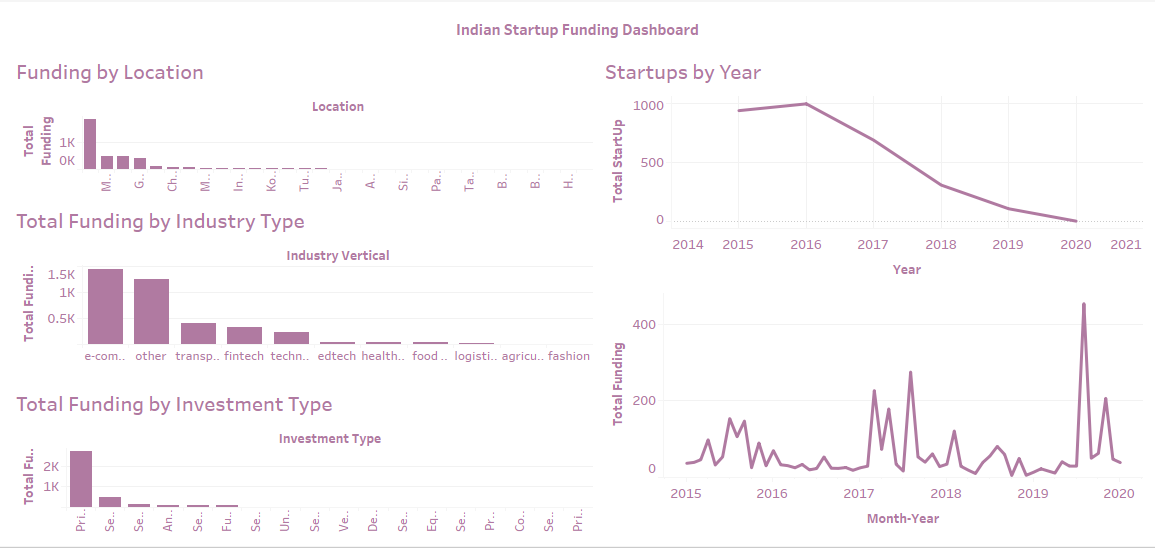

This screenshot's page, from the dashboard's own definition file:
{"tool":"tableau","page":{"name":"Startup Funding Dashboard","canvas":[1000,1000],"units":"permille","ordinal":0},"visuals":[{"type":"text","box":[6.9,14.7,986.1,71.7]},{"type":"worksheet","title":"Funding by location","mark":"Bar","rows":["Calculation_6105192264144089088"],"cols":["Location"],"box":[6.9,86.4,509.9,273.9]},{"type":"worksheet","title":"Startups per year","mark":"Automatic","rows":["Calculation_6105192264169623554"],"cols":["Year"],"box":[516.9,86.4,476.2,441.2]},{"type":"worksheet","title":"Funding by Industry","mark":"Automatic","rows":["Calculation_6105192264144089088"],"cols":["Industry Vertical"],"box":[6.9,360.3,509.9,336.4]},{"type":"worksheet","title":"Funding over time","mark":"Line","rows":["Calculation_6105192264144089088"],"cols":["Calculation_6105192264153350145"],"box":[516.9,527.6,476.2,457.7]},{"type":"worksheet","title":"Funding by Investment","mark":"Automatic","rows":["Calculation_6105192264144089088"],"cols":["Investment Type"],"box":[6.9,696.7,509.9,288.6]}]}

Visuals, with their boxes on the dashboard's canvas, which has no fixed pixel size, in thousandths of its width and height (x1, y1, x2, y2). These are canvas units, not pixel positions in the 1155x548 screenshot, which may show the page scaled, cropped or inside an application window:
text: 7, 15, 993, 86
"Funding by location" worksheet (Bar marks): 7, 86, 517, 360
"Startups per year" worksheet: 517, 86, 993, 528
"Funding by Industry" worksheet: 7, 360, 517, 697
"Funding over time" worksheet (Line marks): 517, 528, 993, 985
"Funding by Investment" worksheet: 7, 697, 517, 985
